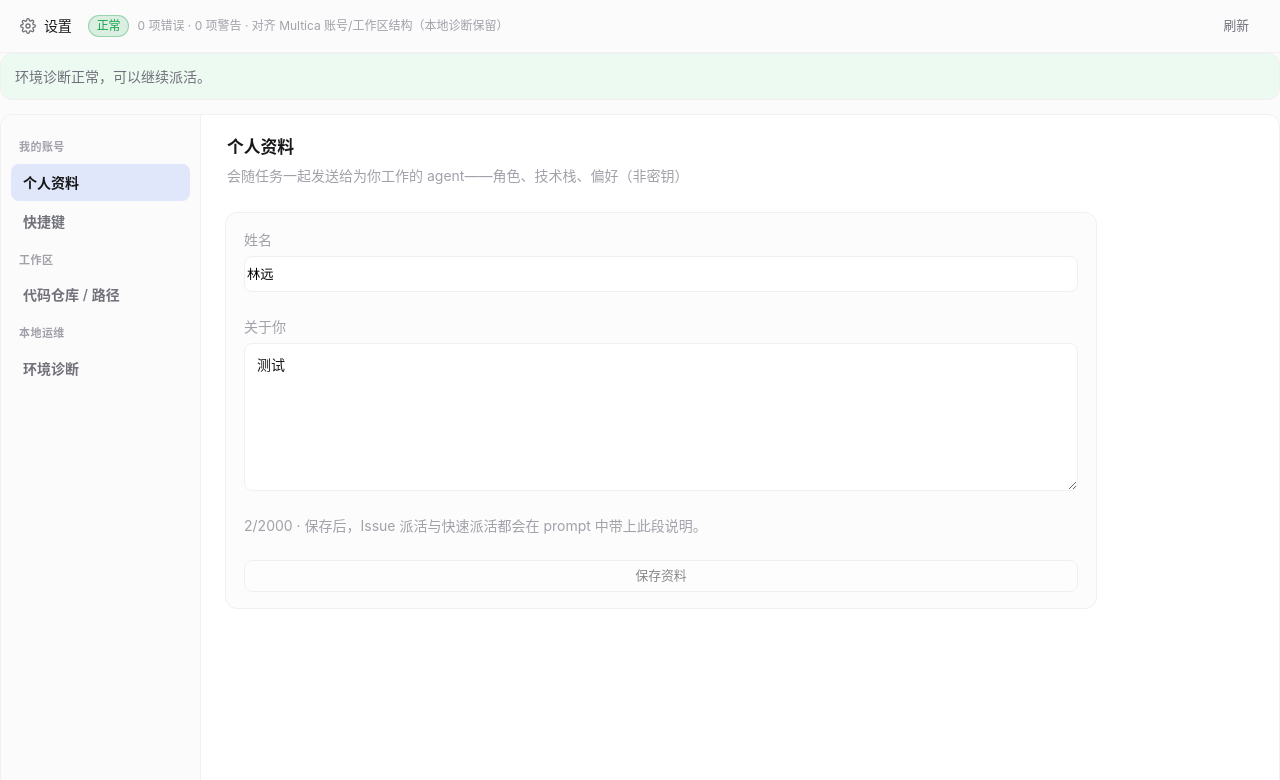
Test: SettingsPage › Live Probes 将 CLI 发现与安全预检分开呈现，并兼容 future passed/failed 状态
The image size is (1280, 780).
Click the button with test id "settings-nav-health".
click(100, 368)  # box x1=11 y1=350 x2=190 y2=386
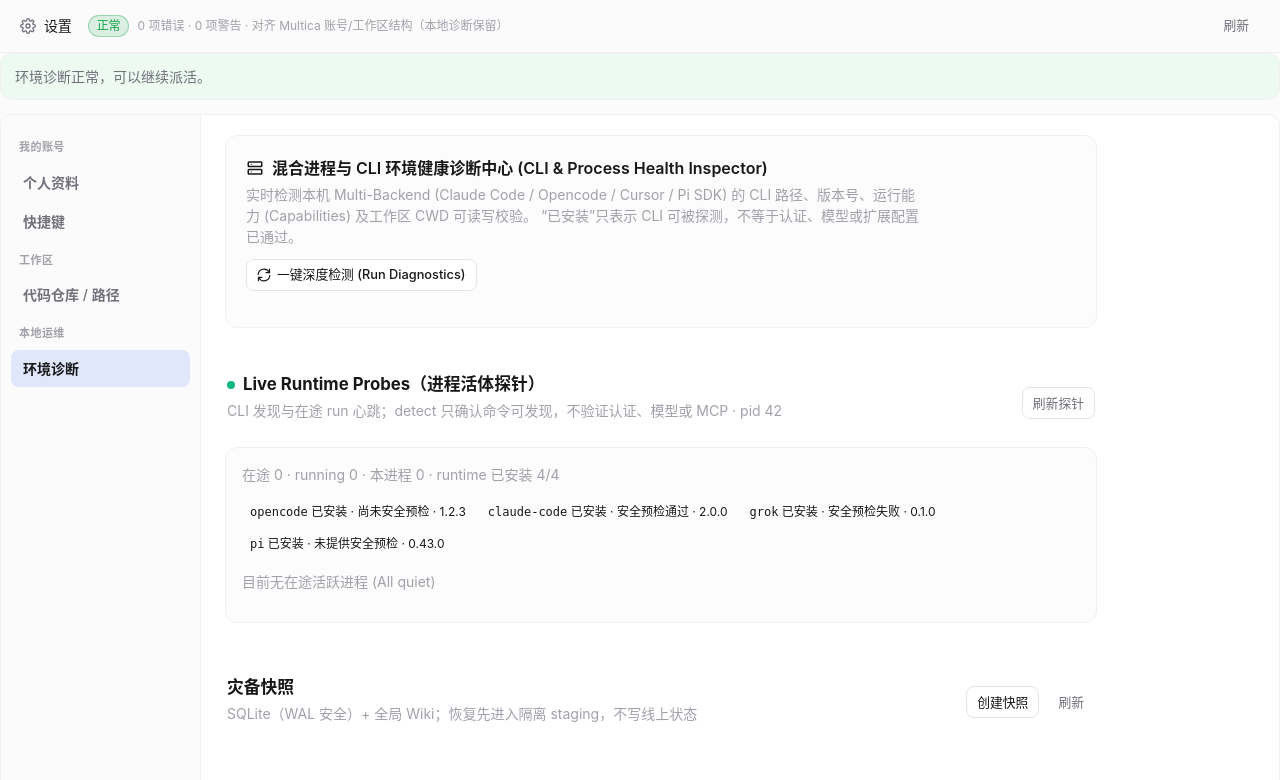
Expected: the text with test id "settings-live-probes-summary" shows "runtime 已安装 4/4", x1=242 y1=466 x2=560 y2=483
Expected: the list item with test id "settings-live-runtime-opencode" shows "已安装 · 尚未安全预检", x1=311 y1=504 x2=429 y2=519
Expected: the list item with test id "settings-live-runtime-claude-code" shows "已安装 · 安全预检通过", x1=571 y1=504 x2=689 y2=519
